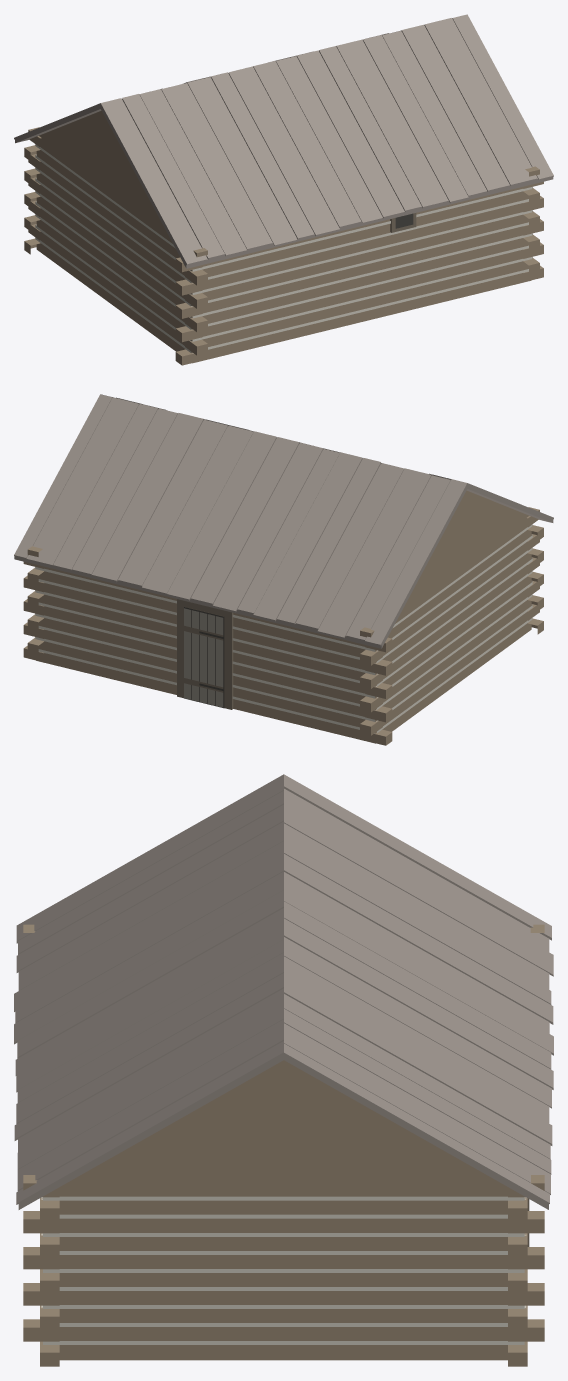
The model's file is fort_dearborn_out_building_a__out_building_a_1830.glb.
3 renders of one model, top to bottom at view 1: azimuth 30°, elevation 25°; view 2: azimuth 150°, elevation 25°; view 3: azimuth 270°, elevation 25°, orthographic. The views are drawn at different scales.
Parts seen in each view (by area): view 1: fort_dearborn_out_building_a__out_building_a_1830; view 2: fort_dearborn_out_building_a__out_building_a_1830; view 3: fort_dearborn_out_building_a__out_building_a_1830.
Part boxes in pixels (box(x1,y1,x2,y2)): fort_dearborn_out_building_a__out_building_a_1830: box(14, 14, 553, 365); fort_dearborn_out_building_a__out_building_a_1830: box(14, 394, 553, 745); fort_dearborn_out_building_a__out_building_a_1830: box(14, 774, 553, 1366).
Bounding box in the file's own units: 7.89 × 4.25 × 6.5.
